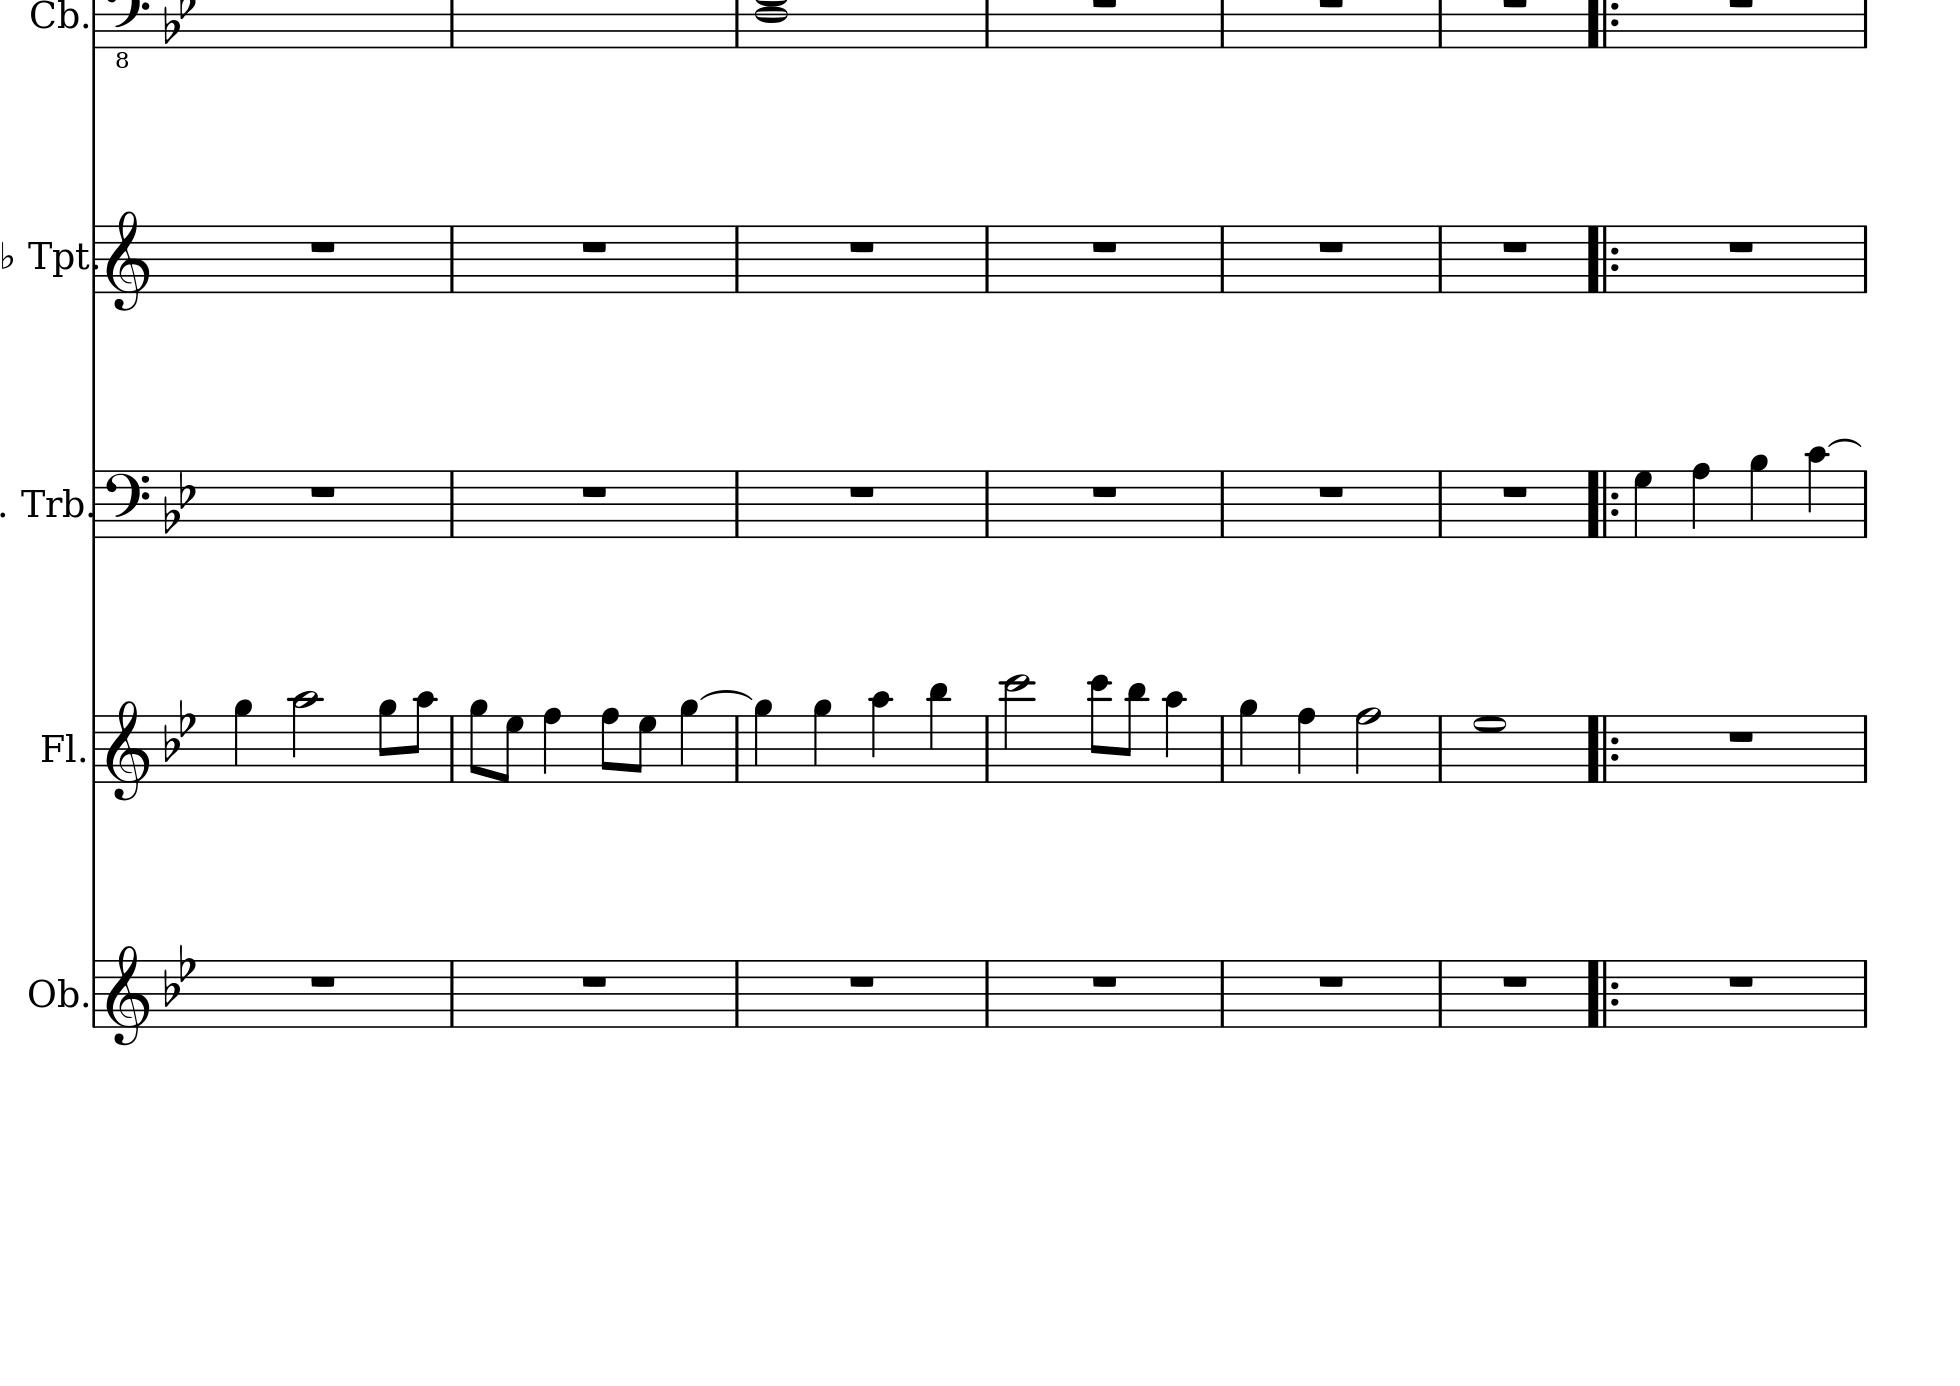1_7: (1473, 712, 1507, 784)
2_10: (289, 688, 321, 784)
2_12: (1000, 673, 1035, 784)
2_8: (1354, 705, 1383, 784)
4_10: (865, 688, 894, 784), (1161, 688, 1188, 784), (1806, 444, 1830, 538)
4_11: (925, 679, 951, 784)
4_7: (1632, 468, 1654, 538)
4_8: (1690, 460, 1713, 540), (540, 705, 562, 784), (1296, 706, 1318, 784)
4_9: (1747, 451, 1771, 538), (676, 697, 700, 784), (810, 697, 834, 784), (1236, 697, 1260, 784), (232, 696, 255, 784), (751, 697, 774, 784)
8_10: (406, 688, 438, 783)
8_11: (1119, 679, 1149, 783)
8_12: (1086, 672, 1113, 783)
8_7: (496, 712, 523, 783), (630, 712, 657, 783)
8_8: (598, 705, 619, 784)
8_9: (375, 697, 397, 784), (466, 697, 489, 784)
B_F: (162, 940, 196, 1006), (163, 469, 196, 534), (163, 697, 196, 762)
Cb: (25, 1, 79, 33)
Fclef: (103, 466, 151, 538)
Fl: (37, 729, 76, 766)
Gclef: (103, 696, 151, 802), (105, 208, 150, 313), (105, 942, 150, 1047)
LeftRepeatSign: (1584, 223, 1621, 294), (1584, 469, 1621, 538), (1584, 714, 1621, 783), (1584, 958, 1621, 1027), (1585, 1, 1621, 49)
Ob: (27, 972, 78, 1009)
Rests1: (1498, 481, 1533, 502), (1723, 970, 1758, 991), (304, 235, 337, 256), (1725, 235, 1758, 256), (1498, 237, 1533, 256), (1498, 972, 1533, 991), (1725, 726, 1758, 745), (306, 970, 339, 990), (846, 970, 877, 990), (577, 237, 610, 255), (577, 481, 610, 499), (577, 970, 610, 988), (846, 237, 877, 255), (1089, 237, 1120, 255), (1315, 237, 1347, 255), (306, 481, 337, 499), (846, 481, 877, 499), (1089, 481, 1120, 499), (1315, 481, 1347, 499), (1089, 972, 1120, 988), (1317, 972, 1347, 988), (1090, 1, 1120, 10), (1317, 1, 1347, 10), (1500, 1, 1530, 10), (1726, 1, 1756, 10)
Single_barline: (1431, 714, 1450, 781), (1215, 715, 1233, 781), (1857, 958, 1873, 1027), (1215, 225, 1231, 292), (1432, 225, 1449, 292), (1857, 225, 1873, 292), (1432, 469, 1449, 537), (1857, 714, 1873, 781), (1432, 960, 1449, 1027), (444, 226, 460, 292), (729, 226, 745, 292), (979, 226, 996, 292), (979, 471, 996, 537), (1857, 471, 1873, 537), (729, 961, 745, 1027), (444, 471, 460, 535), (729, 471, 745, 535), (1215, 471, 1231, 535), (979, 715, 996, 780), (729, 717, 745, 781), (444, 961, 460, 1026), (979, 961, 996, 1026), (1215, 960, 1230, 1027), (444, 715, 459, 780), (88, 225, 102, 292), (88, 469, 102, 537), (88, 715, 102, 781), (442, 1, 460, 48), (88, 960, 100, 1027), (979, 1, 996, 48), (1432, 1, 1449, 48), (1857, 1, 1873, 48), (1215, 1, 1230, 48)
Slur: (700, 688, 753, 700), (1827, 438, 1863, 448)
Tpt: (25, 235, 87, 280)
Trb: (16, 480, 85, 520)
